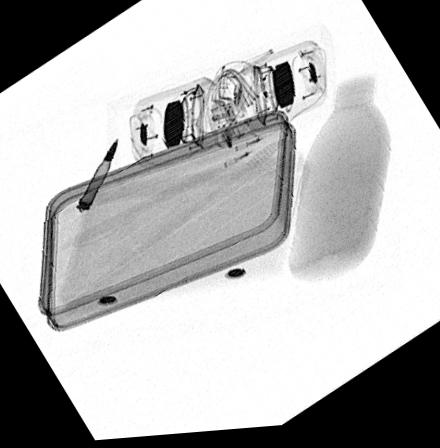Bullet: (77, 136, 119, 212)
